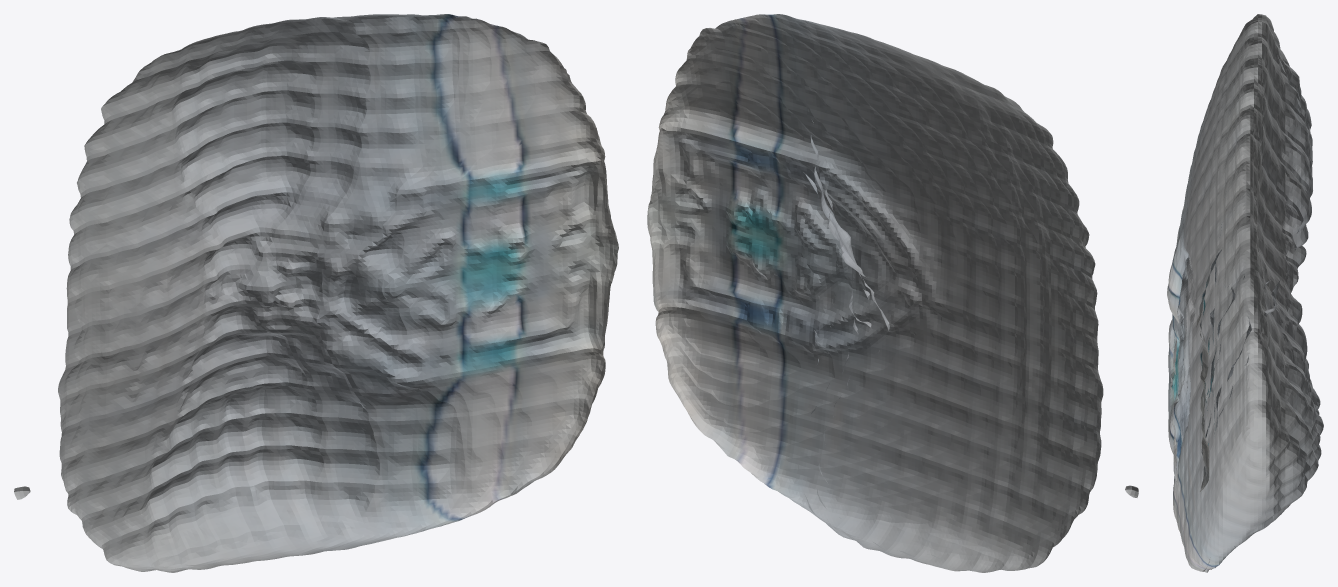
The picture shows the model from 3 angles, left to right: view 1: azimuth 30°, elevation 25°; view 2: azimuth 150°, elevation 25°; view 3: azimuth 270°, elevation 25°; orthographic projection. The views are drawn at different scales.
Parts seen in each view (by area): view 1: world; view 2: world; view 3: world.
Part boxes in pixels (<box>): world: <box>14,14,618,572</box>; world: <box>647,14,1138,572</box>; world: <box>1167,14,1323,572</box>.
Size of the model in its own units: 0.9829 by 0.8869 by 0.2746.
